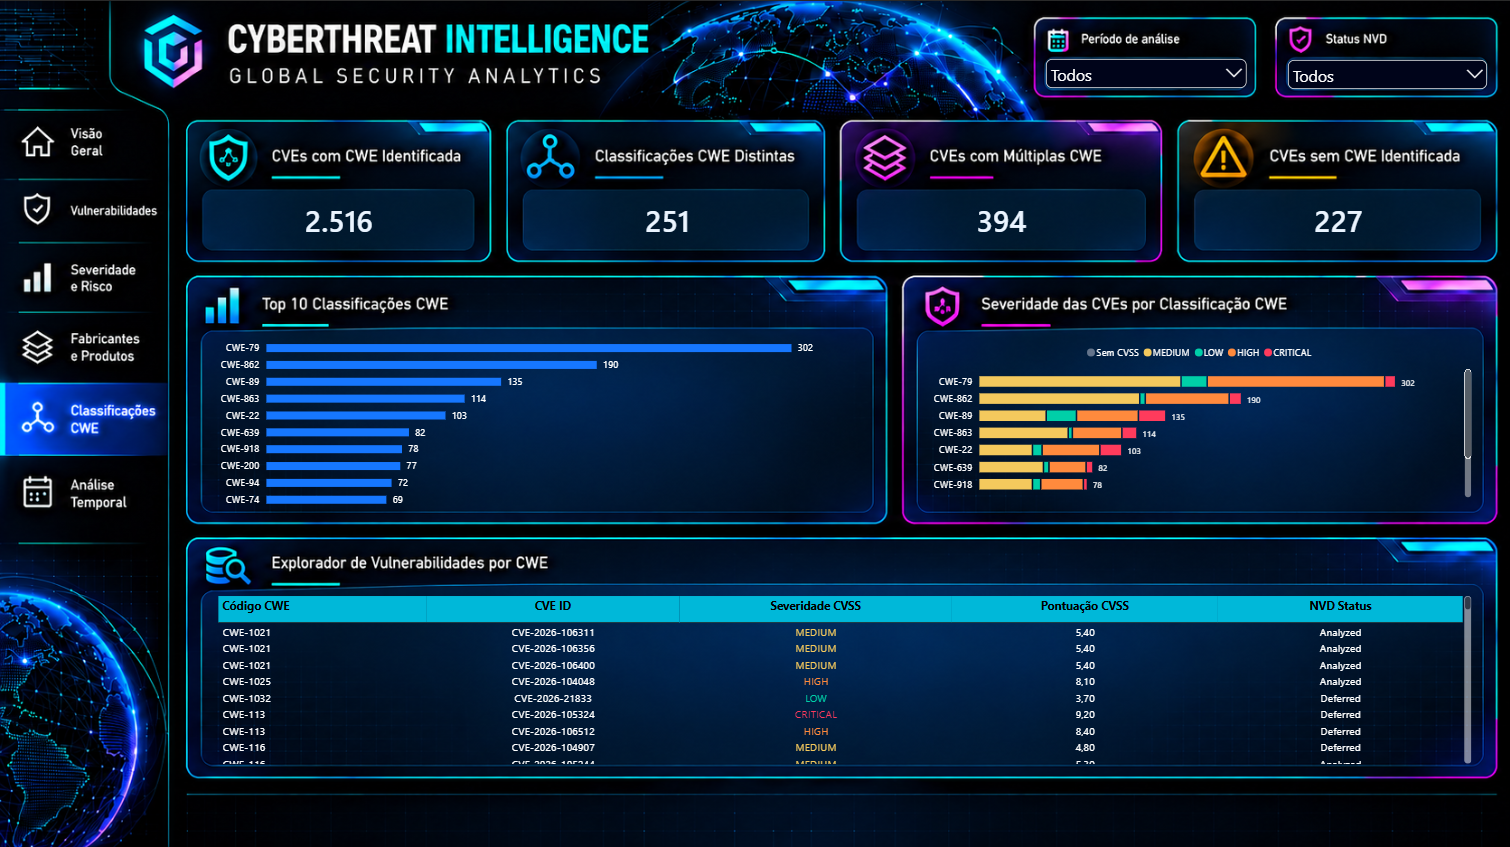

Layout of this report page (visuals, bound fields, positions):
{"tool":"powerbi","page":{"name":"ClassifIcações CWE","canvas":[1920,1080],"ordinal":4},"visuals":[{"type":"slicer","fields":{"Values":["dim_data.data"]},"box":[1324.5,68.8,264.6,127],"z":0},{"type":"slicer","fields":{"Values":["dim_status.status_nvd"]},"box":[1631.5,70.1,263.3,128.4],"z":1000},{"type":"card","fields":{"Values":["_Medidas.CVEs com CWE Identificada"]},"box":[260.1,238.4,340.4,81.6],"z":2000},{"type":"card","fields":{"Values":["_Medidas.Classificações CWE Distintas"]},"box":[663.5,238.3,369.9,81.7],"z":3000},{"type":"card","fields":{"Values":["_Medidas.CVEs com Múltiplas CWE"]},"box":[1087.4,238.3,369.9,81.7],"z":4000},{"type":"card","fields":{"Values":["_Medidas.CVEs sem CWE Identificada"]},"box":[1515.5,238.3,369.9,81.7],"z":5000},{"type":"clusteredBarChart","fields":{"Category":["dim_cwe.cwe_codigo"],"Y":["_Medidas.CVEs por Classificação CWE"]},"box":[259.9,405.3,867.2,258.6],"z":6000},{"type":"barChart","fields":{"Category":["dim_cwe.cwe_codigo"],"Series":["fato_vulnerabilidade.Severidade CVSS Exibição"],"Y":["_Medidas.CVEs por Classificação CWE"]},"box":[1166.5,417.7,718.8,228.6],"z":7000},{"type":"tableEx","fields":{"Values":["dim_cwe.cwe_codigo","fato_vulnerabilidade.cve_id","fato_vulnerabilidade.Severidade CVSS Exibição","fato_vulnerabilidade.cvss_pontuacao","fato_vulnerabilidade.status_nvd"]},"box":[260.1,742.5,1625.2,242.8],"z":8000},{"type":"actionButton","box":[0,237.6,100.4,55.9],"z":9000},{"type":"actionButton","box":[10.2,322.7,81.3,66.1],"z":10000},{"type":"actionButton","box":[10.2,420.6,78.8,57.2],"z":11000},{"type":"actionButton","box":[10,595,78.8,68.8],"z":11001},{"type":"actionButton","box":[22.5,156.2,52.5,53.8],"z":11002}]}

Visuals, with their boxes on the page's 1920x1080 design canvas (x1, y1, x2, y2). These are canvas units, not pixel positions in the 1510x847 screenshot, which may show the page scaled, cropped or inside an application window:
slicer - dim_data.data: (1324,69,1589,196)
slicer - dim_status.status_nvd: (1632,70,1895,198)
card - _Medidas.CVEs com CWE Identificada: (260,238,600,320)
card - _Medidas.Classificações CWE Distintas: (664,238,1033,320)
card - _Medidas.CVEs com Múltiplas CWE: (1087,238,1457,320)
card - _Medidas.CVEs sem CWE Identificada: (1516,238,1885,320)
clusteredBarChart - dim_cwe.cwe_codigo x _Medidas.CVEs por Classificação CWE: (260,405,1127,664)
barChart - dim_cwe.cwe_codigo x fato_vulnerabilidade.Severidade CVSS Exibição: (1166,418,1885,646)
tableEx - dim_cwe.cwe_codigo x fato_vulnerabilidade.cve_id: (260,742,1885,985)
actionButton: (0,238,100,294)
actionButton: (10,323,92,389)
actionButton: (10,421,89,478)
actionButton: (10,595,89,664)
actionButton: (22,156,75,210)
